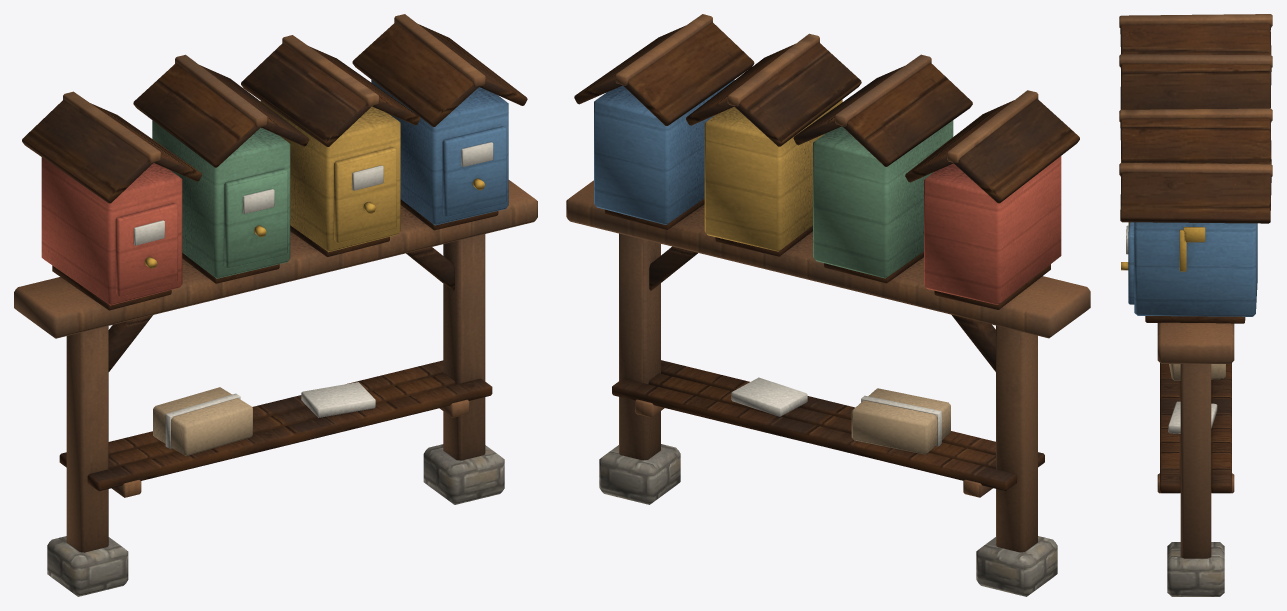
The model's file is prop_neighbor_mailboxes.glb.
The picture shows the model from 3 angles, left to right: view 1: azimuth 30°, elevation 25°; view 2: azimuth 150°, elevation 25°; view 3: azimuth 270°, elevation 25°; orthographic projection. The views are drawn at different scales.
Visible parts, largest first — view 1: NeighborMailboxes; view 2: NeighborMailboxes; view 3: NeighborMailboxes.
Part boxes in pixels (x1=…): NeighborMailboxes: x1=14, y1=14, x2=537, y2=596; NeighborMailboxes: x1=566, y1=14, x2=1090, y2=596; NeighborMailboxes: x1=1119, y1=14, x2=1272, y2=596.
Bounding box in the file's own units: 1.6 × 1.46 × 0.4806.
Materials: 2 (2 with a texture image).
